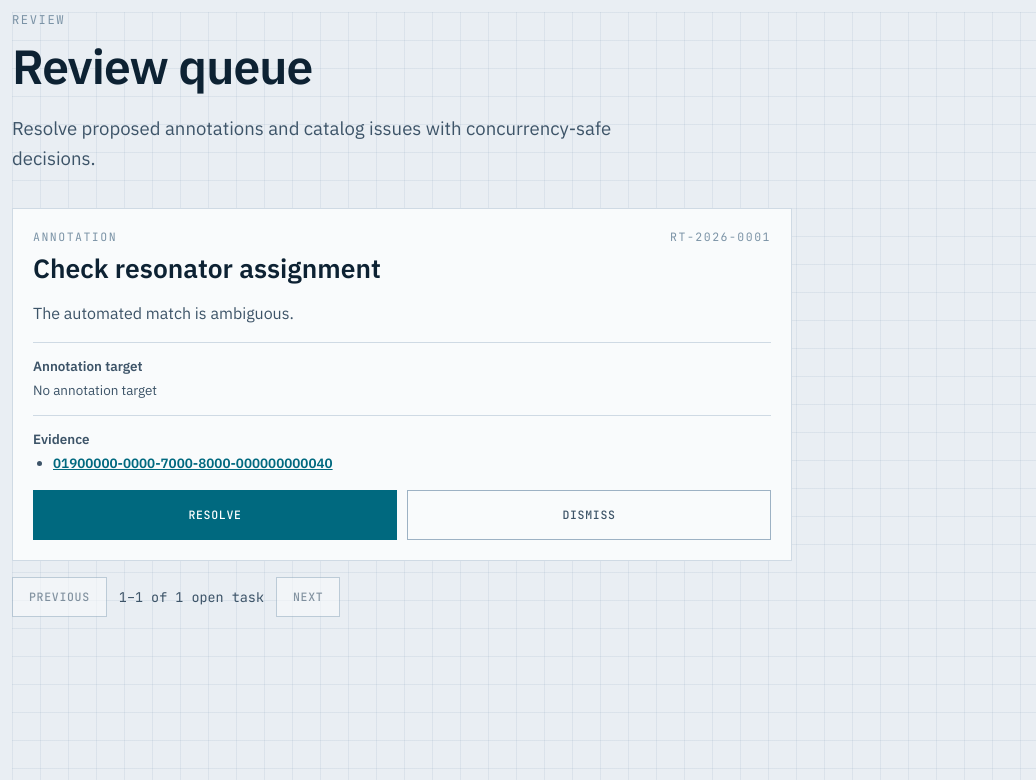
ReviewQueuePage › lists open tasks server-side, sends the ETag on resolve, then refreshes
Expected: the heading "Check resonator assignment" is shown, [33,251,381,285]
Click the button "Resolve" at (215,515), box [33,490,397,540]
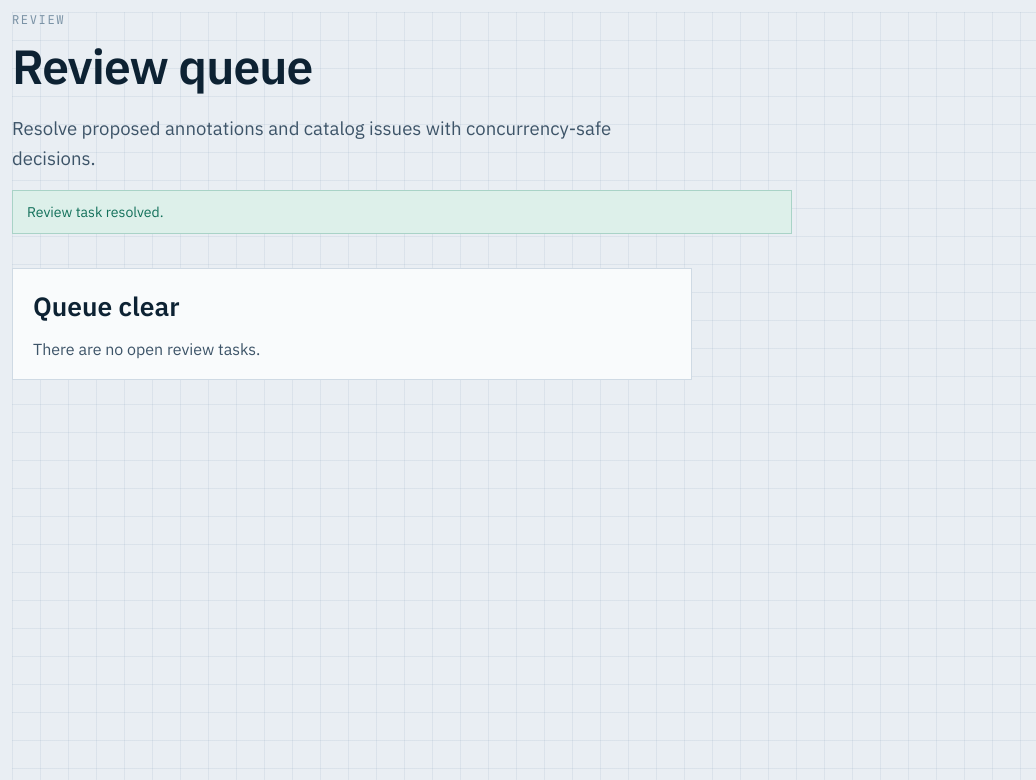
Now the text "Review task resolved." is shown, box [12,190,792,234]
Now the heading "Queue clear" is shown, box [33,289,180,323]
Now the heading "Check resonator assignment" is gone
